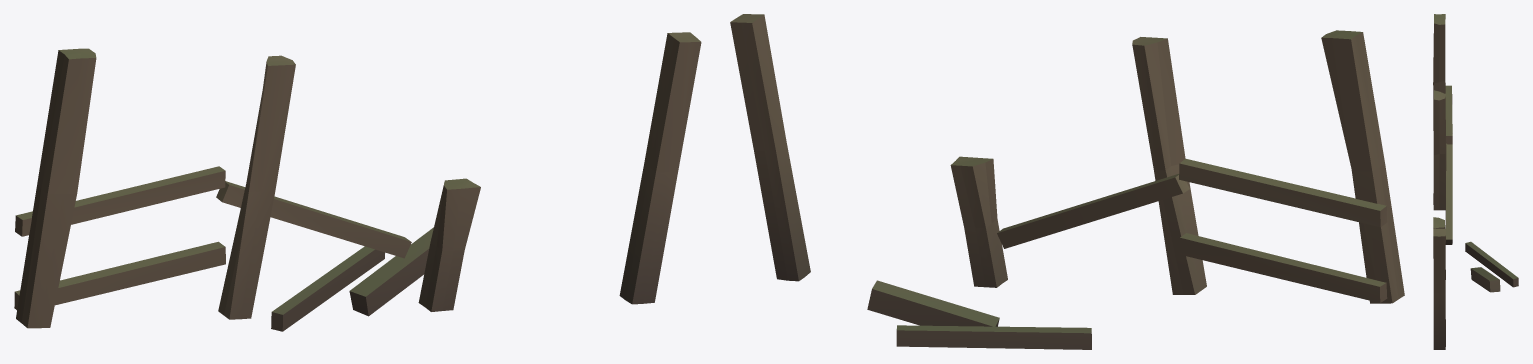
The model's file is fence_broken.glb.
The picture shows the model from 3 angles, left to right: view 1: azimuth 30°, elevation 25°; view 2: azimuth 150°, elevation 25°; view 3: azimuth 270°, elevation 25°; orthographic projection. The views are drawn at different scales.
Visible parts, largest first — view 1: fence; view 2: fence; view 3: fence.
Part boxes in pixels (x1,y1,x2,y2): fence: (14,32,701,331); fence: (730,14,1404,349); fence: (1433,14,1518,349).
Bounding box in the file's own units: 2.96 × 1.62 × 0.6511.
